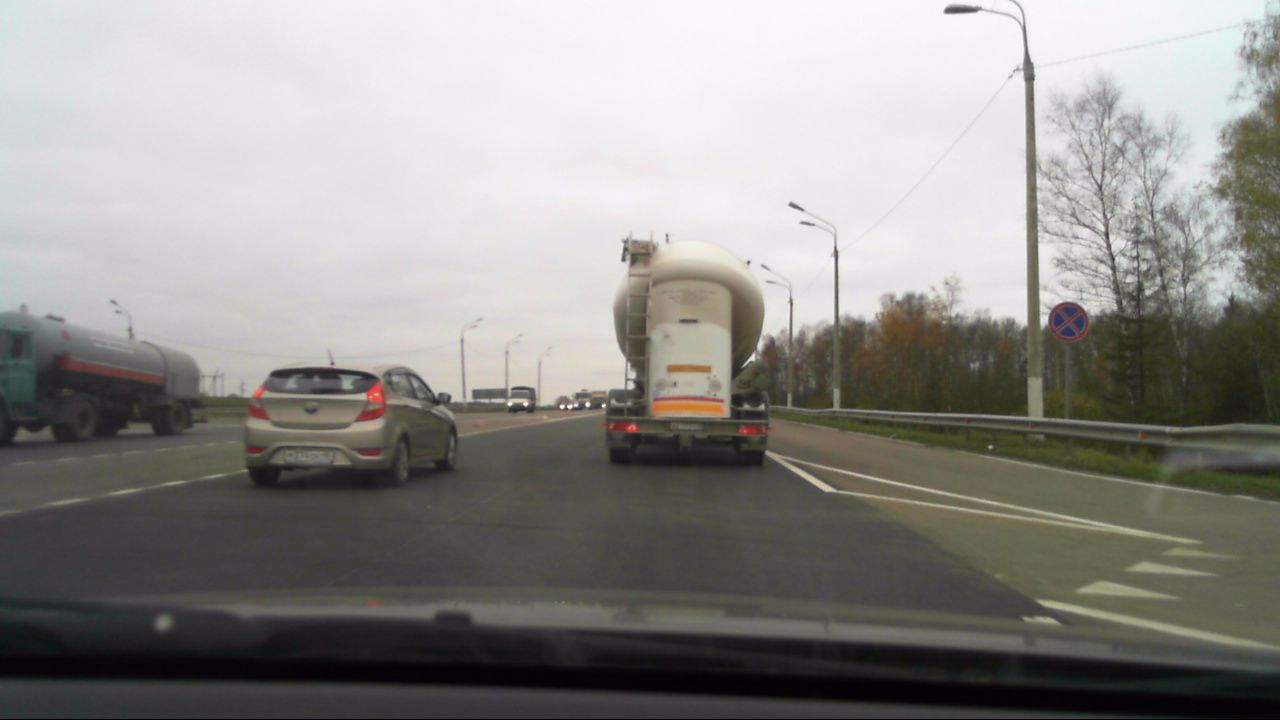No Parking: (1042, 298, 1093, 344)
